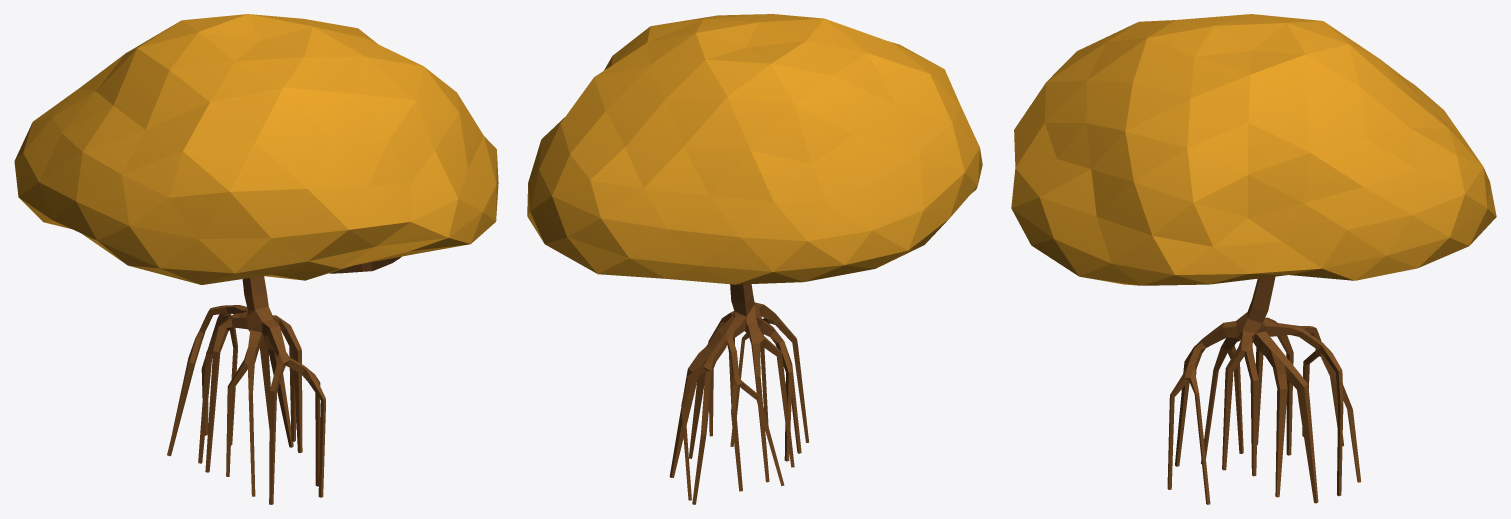
File: mangrove_tree.glb
The picture shows the model from 3 angles, left to right: view 1: azimuth 30°, elevation 25°; view 2: azimuth 150°, elevation 25°; view 3: azimuth 270°, elevation 25°; orthographic projection. The views are drawn at different scales.
Parts seen in each view (by area): view 1: Icosphere.076, Cube.019; view 2: Icosphere.076, Cube.019; view 3: Icosphere.076, Cube.019.
Boxes of the visible parts, bbox=[...] form: Icosphere.076: bbox=[14, 14, 498, 284]; Cube.019: bbox=[167, 256, 401, 504]; Icosphere.076: bbox=[527, 14, 982, 284]; Cube.019: bbox=[669, 284, 809, 504]; Icosphere.076: bbox=[1011, 14, 1496, 285]; Cube.019: bbox=[1167, 276, 1361, 504].
Size of the model in its own units: 1.88 by 1.96 by 1.94.
1 material, 1 textured.
